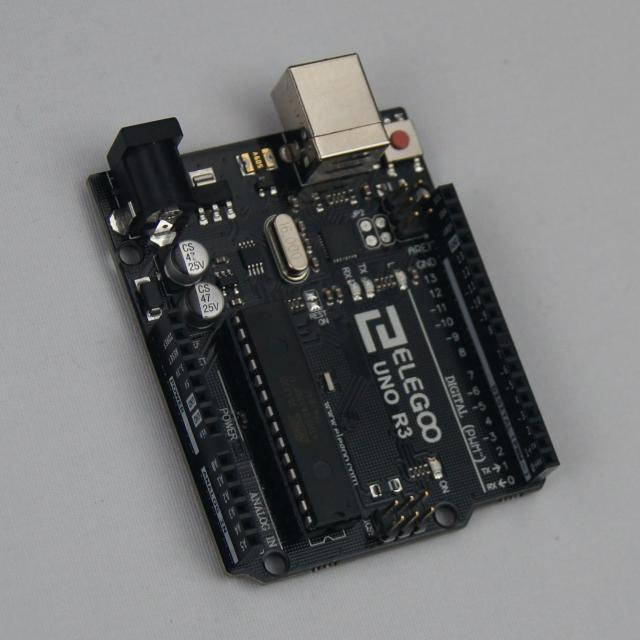Arduino Uno -Black-: (92, 55, 559, 583)
